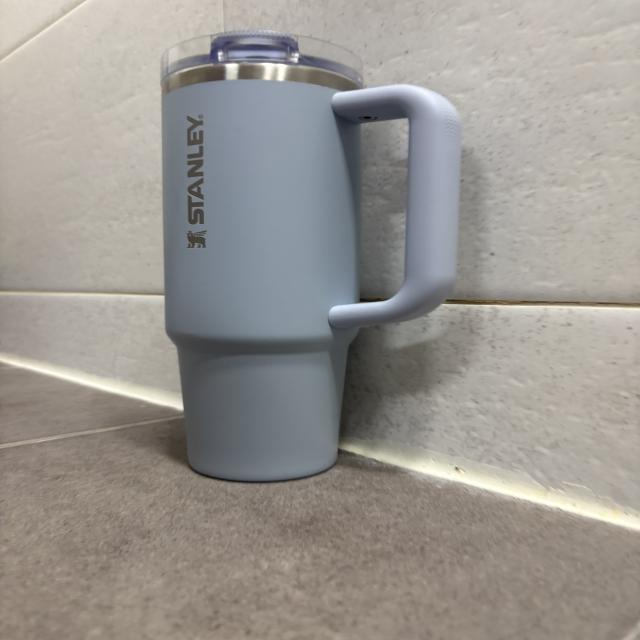waterbottle: (162, 29, 456, 483)
